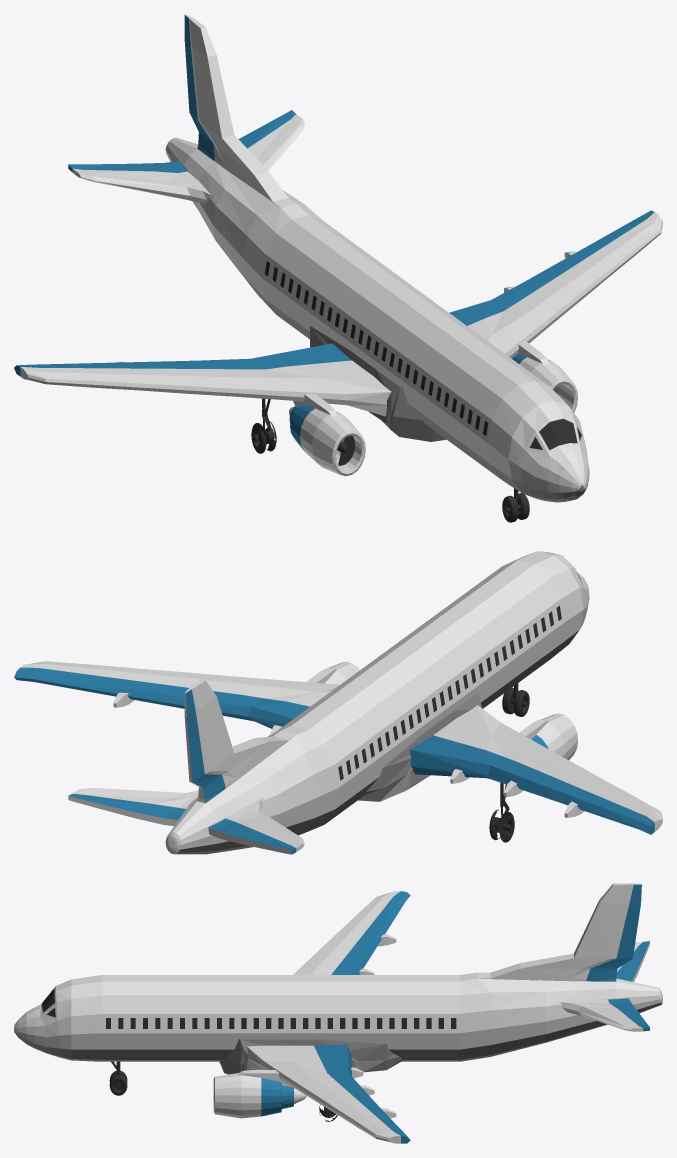
3 renders of one model, top to bottom at view 1: azimuth 30°, elevation 25°; view 2: azimuth 150°, elevation 25°; view 3: azimuth 270°, elevation 25°, orthographic. The views are drawn at different scales.
Visible parts, largest first — view 1: Plane; view 2: Plane; view 3: Plane.
Boxes of the visible parts, <box> form: Plane: <box>14,14,662,522</box>; Plane: <box>14,551,662,854</box>; Plane: <box>14,883,662,1143</box>.
Size of the model in its own units: 11.04 by 4.39 by 12.36.
Materials: 1 (1 with a texture image).
